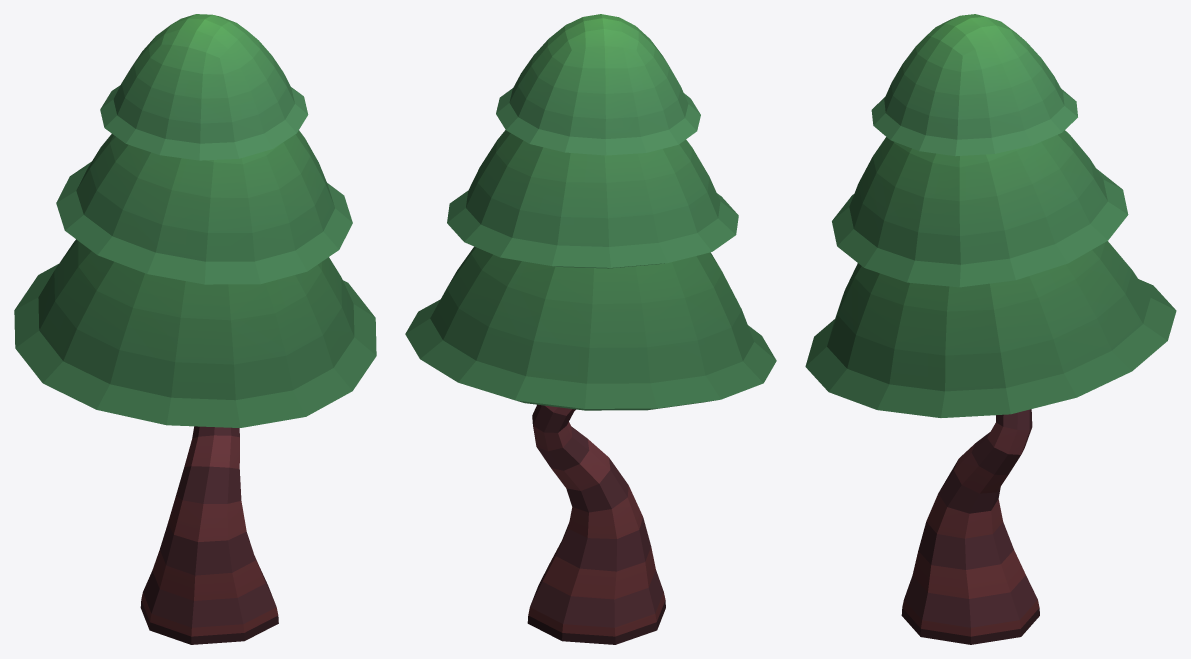
Rendered from Pine1.fbx.
3 renders of one model, left to right at view 1: azimuth 30°, elevation 25°; view 2: azimuth 150°, elevation 25°; view 3: azimuth 270°, elevation 25°, orthographic.
Parts seen in each view (by area): view 1: Pine1; view 2: Pine1; view 3: Pine1.
Part boxes in pixels (box(x1,y1,x2,y2)): Pine1: box(14, 14, 376, 644); Pine1: box(405, 14, 776, 644); Pine1: box(805, 14, 1176, 644).
Size of the model in its own units: 3.89 by 6.83 by 3.86.
